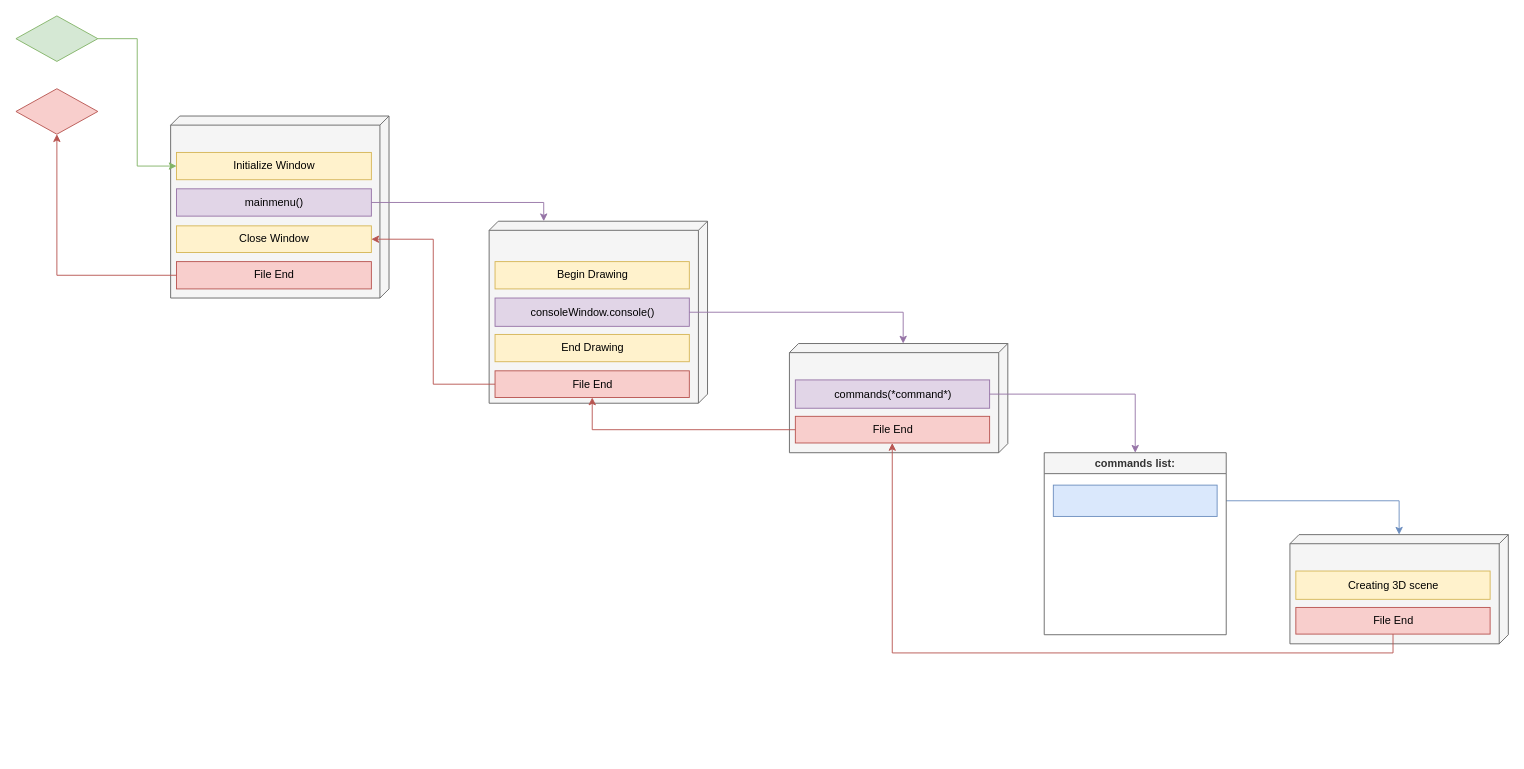
This 1524x769 diagram has some shape labels left out. The shapes that lost their labels are listed below. From the top down, each one's box as (x1, y1, x2, y2) in pixels, then its label:
(15, 15, 98, 61): RUN
(15, 88, 98, 134): CLOSE
(170, 115, 389, 298): main.cpp
(488, 220, 708, 403): mainmenu.cpp
(789, 343, 1008, 453): console.h
(1052, 484, 1217, 516): scene3d
(1289, 534, 1508, 644): scene3d.cpp
